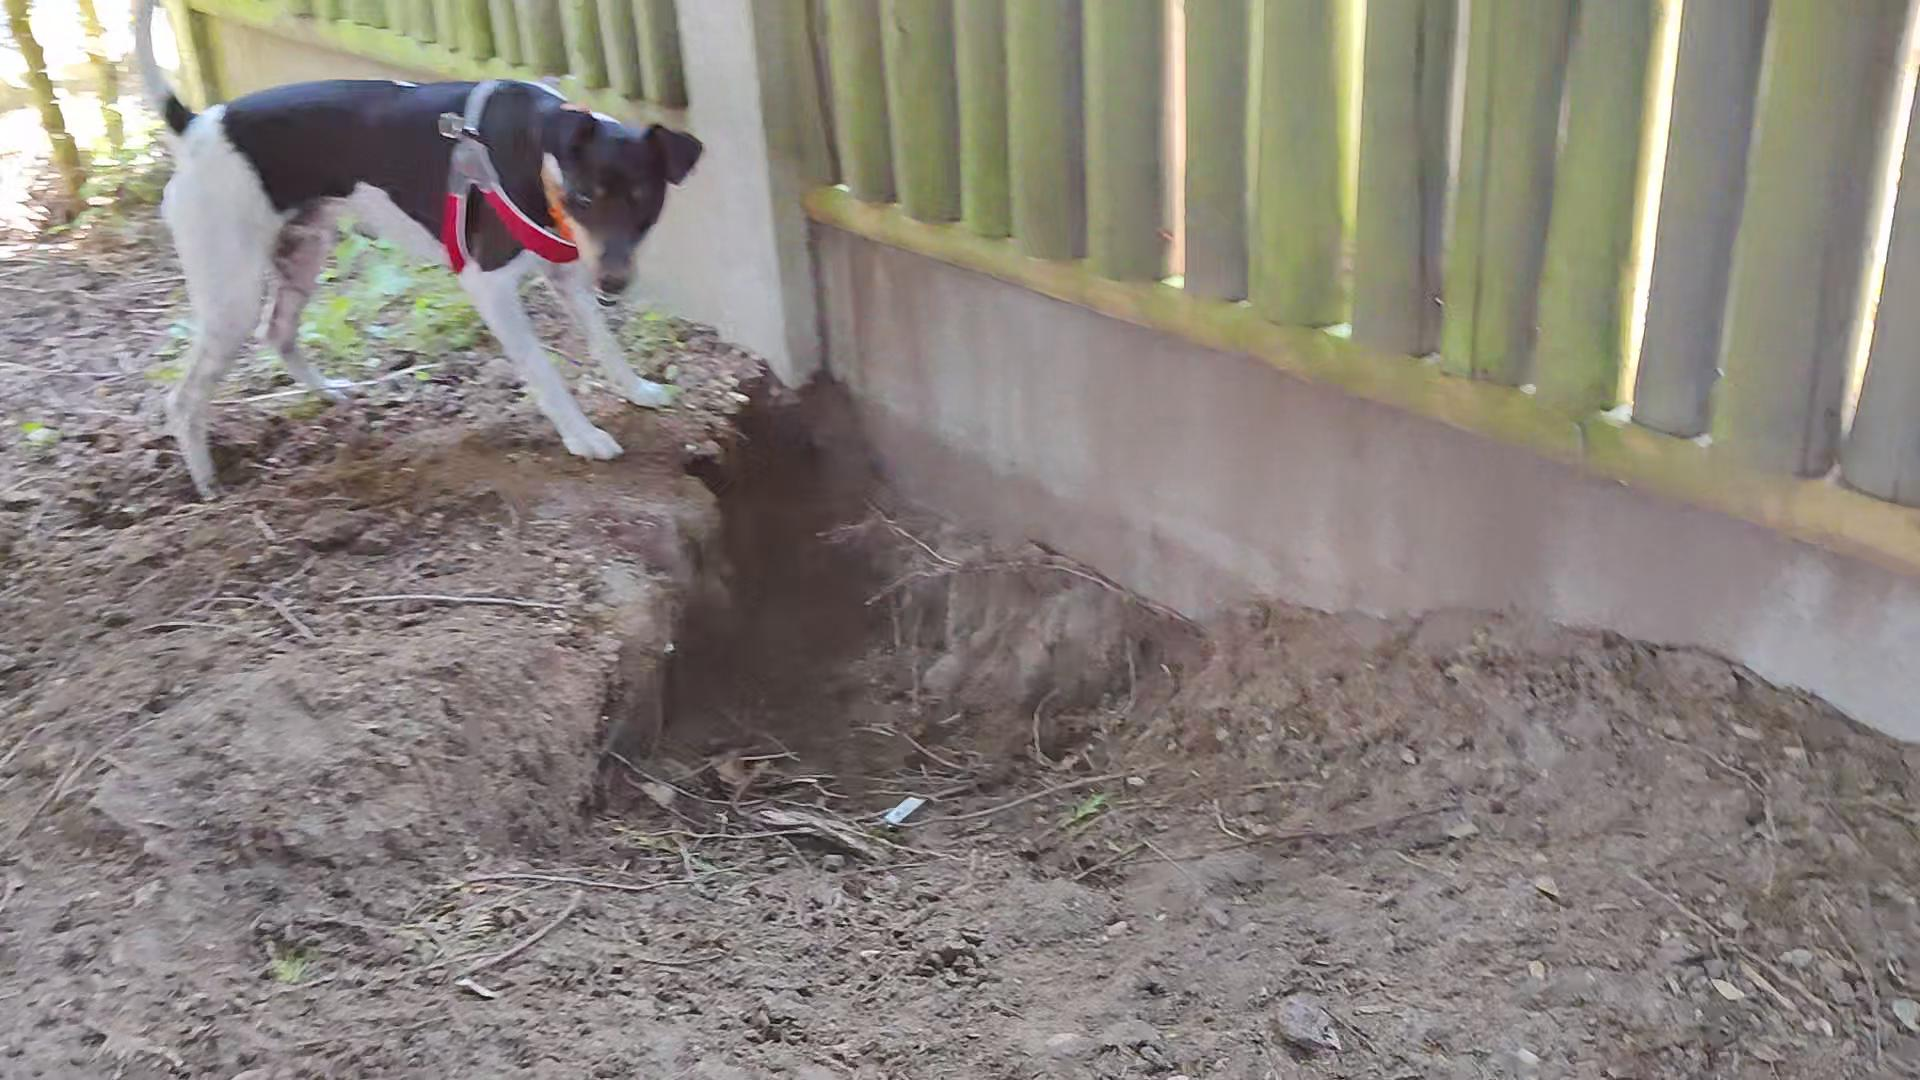Dog: (112, 0, 717, 505)
